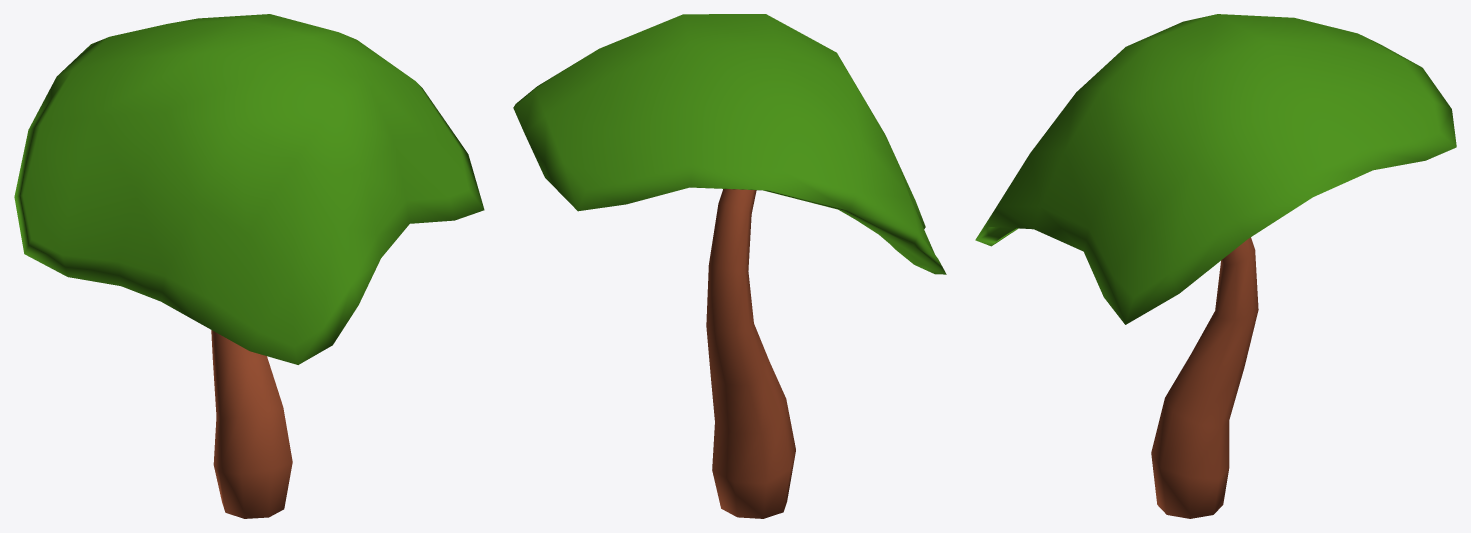
File: Tree1.fbx
3 renders of one model, left to right at view 1: azimuth 30°, elevation 25°; view 2: azimuth 150°, elevation 25°; view 3: azimuth 270°, elevation 25°, orthographic. The views are drawn at different scales.
Parts seen in each view (by area): view 1: pCube2, pCube1; view 2: pCube2, pCube1; view 3: pCube2, pCube1.
Boxes of the visible parts, box(x1,y1,x2,y2) form: pCube2: box(14, 14, 484, 364); pCube1: box(211, 330, 292, 518); pCube2: box(513, 14, 946, 274); pCube1: box(706, 189, 795, 518); pCube2: box(975, 14, 1456, 324); pCube1: box(1151, 237, 1258, 518).
Bounding box in the file's own units: 24.29 × 25.38 × 23.33.
